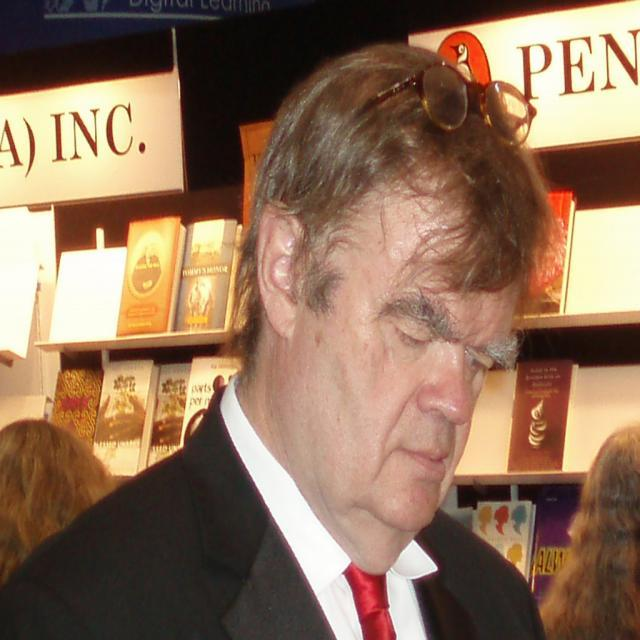Nonhelmet: (224, 38, 566, 555)
